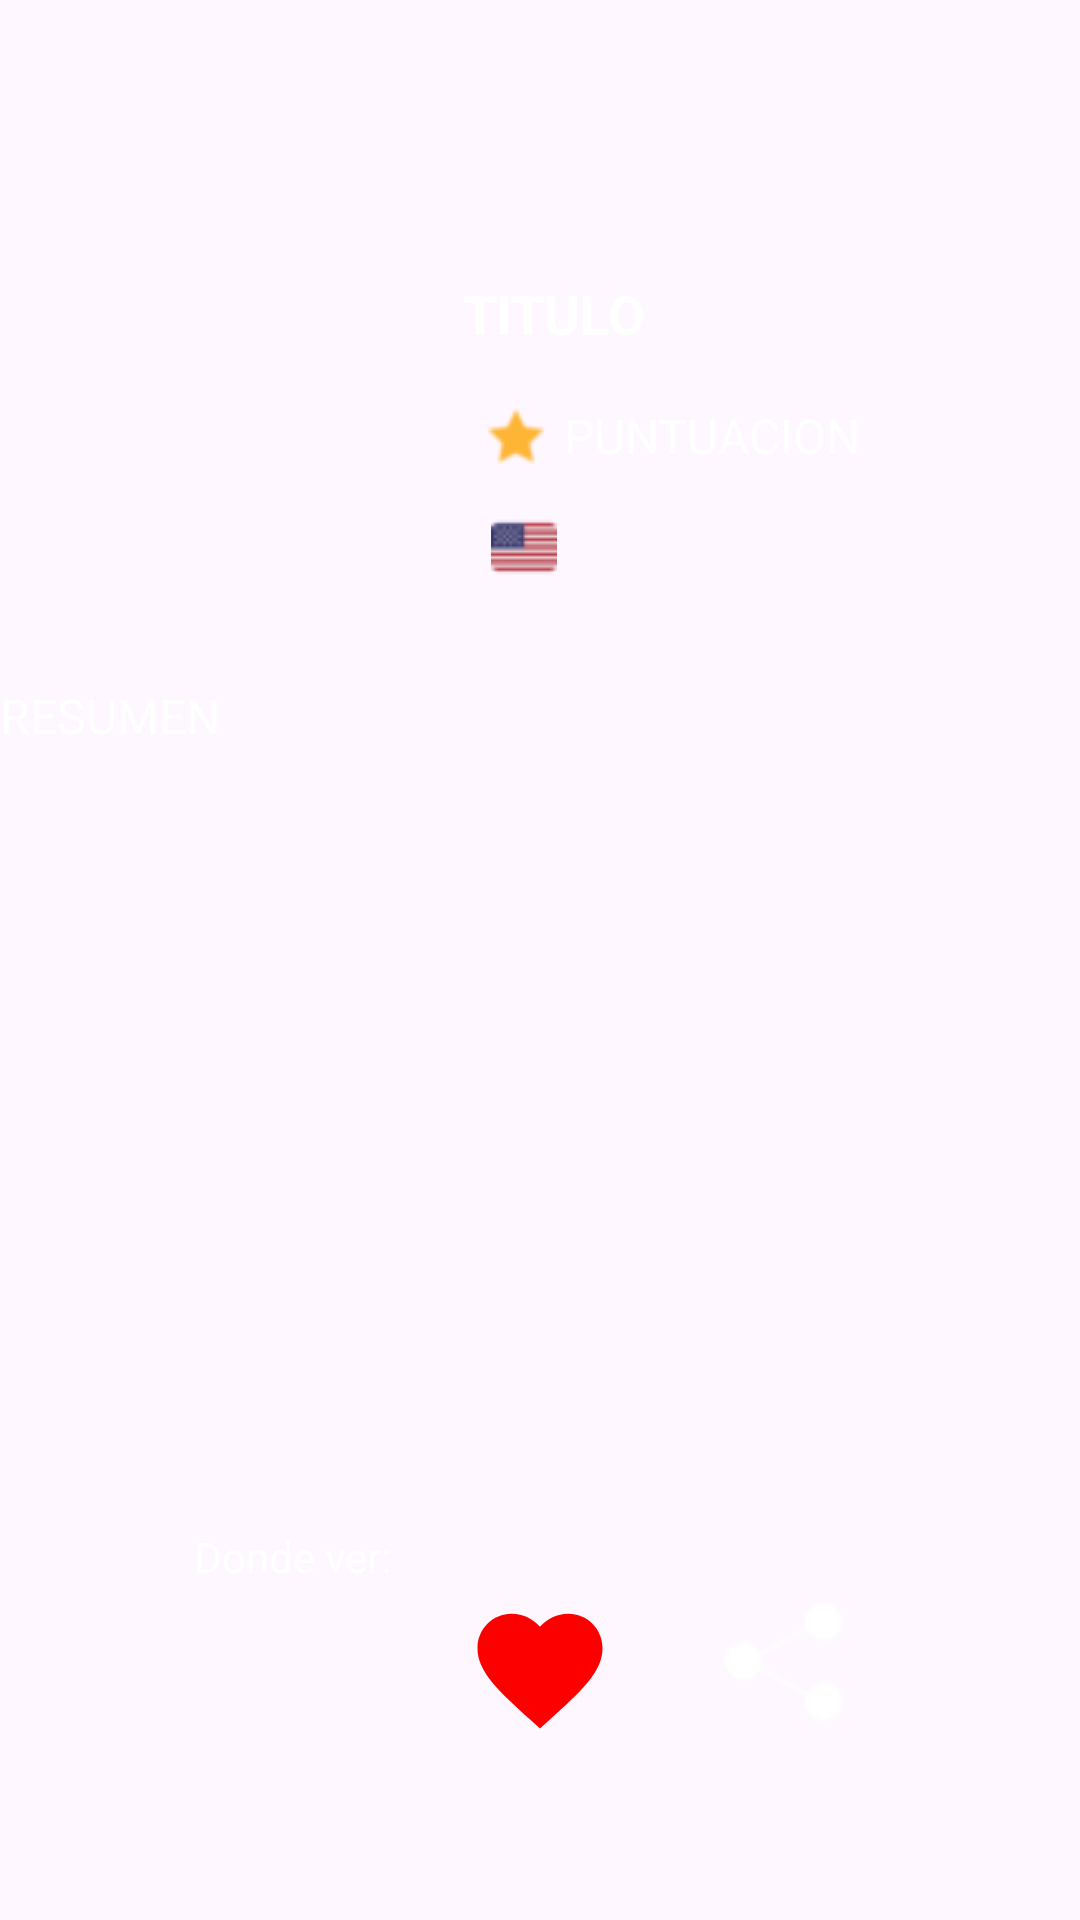

Screen size 1080px x 1920px. Icon name, then its box in pixels as [x1,y1,x2,y2]:
favorite: [477,1613,603,1729]
